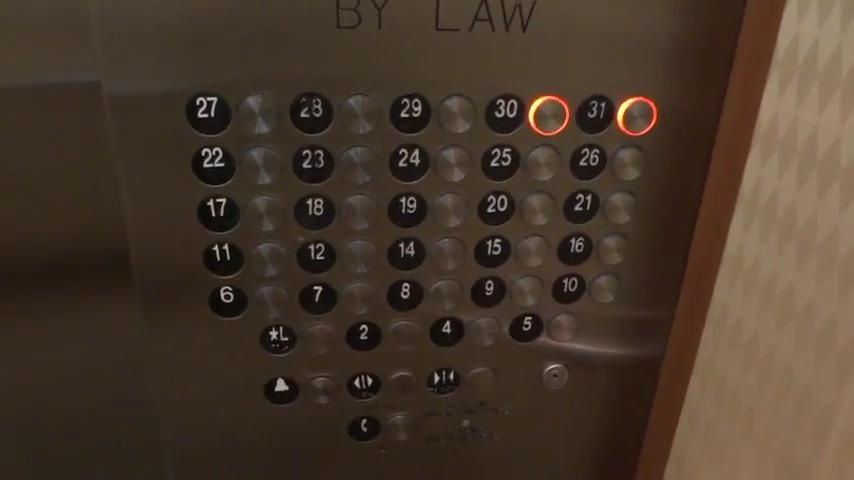10: (549, 268, 588, 306)
11: (199, 237, 248, 279)
12: (295, 235, 337, 273)
14: (387, 234, 426, 272)
15: (472, 230, 511, 268)
16: (554, 228, 593, 266)
17: (195, 191, 242, 234)
18: (290, 189, 336, 231)
19: (387, 189, 426, 227)
2: (345, 318, 381, 353)
20: (475, 187, 514, 225)
21: (561, 187, 600, 225)
22: (189, 140, 237, 186)
23: (289, 140, 337, 186)
24: (385, 139, 432, 185)
25: (478, 139, 522, 183)
26: (565, 140, 608, 181)
27: (182, 88, 234, 136)
28: (287, 89, 335, 135)
29: (385, 89, 433, 135)
30: (483, 89, 526, 135)
31: (573, 92, 617, 136)
4: (428, 312, 464, 347)
5: (508, 309, 544, 344)
6: (205, 279, 249, 319)
7: (296, 277, 338, 318)
8: (385, 275, 424, 313)
9: (468, 270, 507, 308)
alarm: (263, 370, 299, 407)
call: (346, 410, 381, 442)
close: (425, 361, 461, 398)
empty: (238, 144, 281, 188), (234, 91, 277, 135), (335, 90, 378, 134), (435, 89, 478, 133), (528, 90, 571, 134), (614, 93, 657, 137), (336, 141, 377, 183), (249, 240, 288, 279), (244, 193, 283, 232), (337, 191, 376, 230), (428, 190, 467, 229), (517, 188, 556, 227), (599, 188, 638, 227), (609, 144, 648, 183), (521, 143, 560, 182), (433, 143, 472, 182), (467, 313, 503, 349), (386, 318, 422, 354), (300, 320, 336, 356), (253, 284, 289, 320), (339, 280, 375, 316), (427, 276, 463, 312), (507, 273, 543, 309), (587, 269, 623, 305), (593, 232, 629, 268), (513, 232, 549, 268), (430, 235, 466, 271), (341, 237, 377, 273), (382, 411, 417, 443), (383, 369, 418, 401), (304, 373, 339, 405), (460, 365, 495, 397), (545, 311, 580, 343)
keyhole: (538, 360, 571, 392)
open: (344, 366, 380, 403)
sL: (259, 319, 295, 356)
